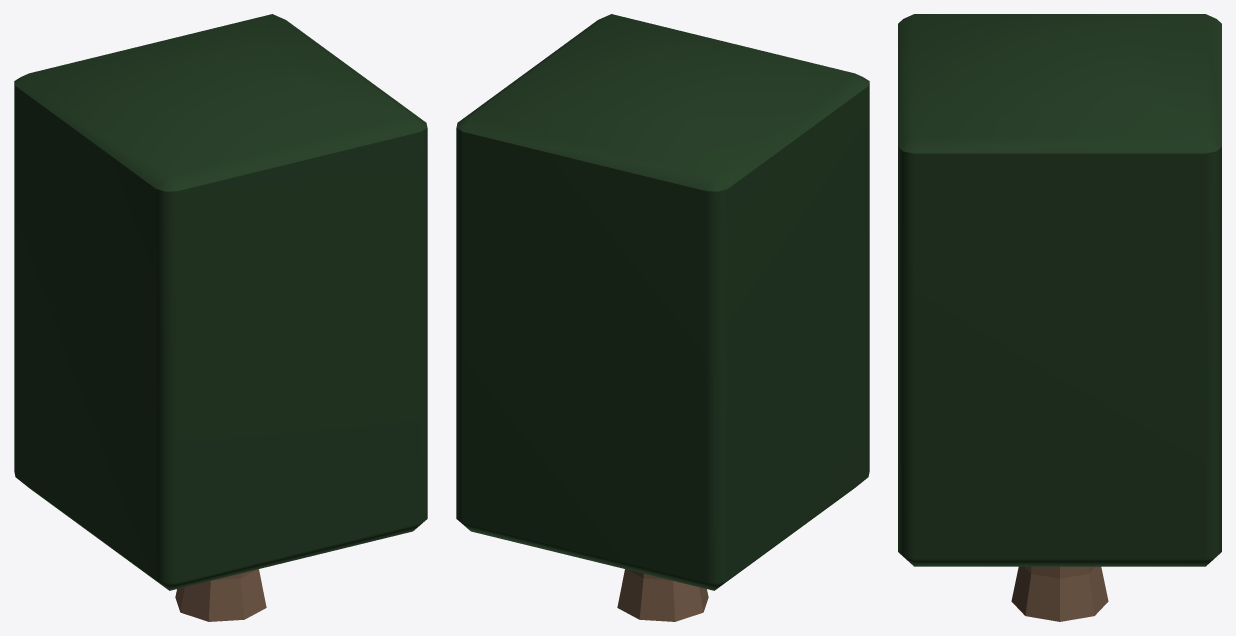
The model's file is block_tree.fbx.
3 renders of one model, left to right at view 1: azimuth 30°, elevation 25°; view 2: azimuth 150°, elevation 25°; view 3: azimuth 270°, elevation 25°, orthographic. The views are drawn at different scales.
Visible parts, largest first — view 1: block_tree; view 2: block_tree; view 3: block_tree.
Boxes of the visible parts, x1,y1,x2,y2 form: block_tree: [14, 14, 427, 621]; block_tree: [456, 14, 869, 621]; block_tree: [898, 14, 1221, 621].
Size of the model in its own units: 0.728 by 1.37 by 0.728.
Materials: 1 (1 with a texture image).
